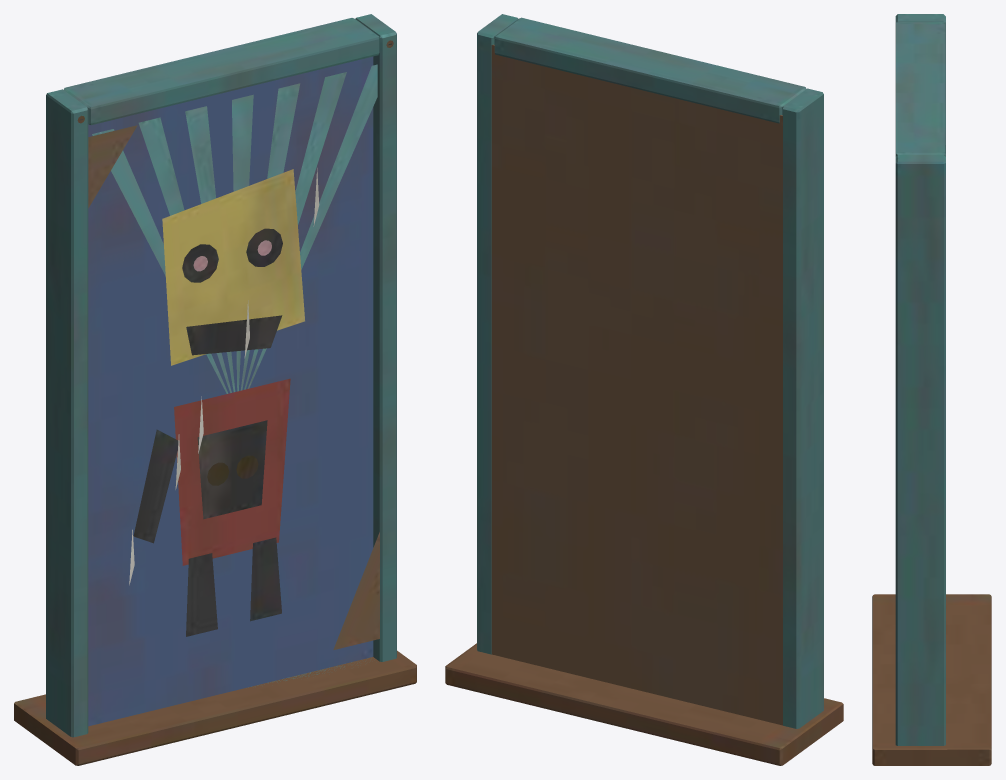
File: Q09_cinema_poster_frame_v3.glb
3 views of the same model, side by side, from view 1: azimuth 30°, elevation 25°; view 2: azimuth 150°, elevation 25°; view 3: azimuth 270°, elevation 25° (orthographic). The views are drawn at different scales.
Visible parts, largest first — view 1: Solid frame backing; view 2: Solid frame backing; view 3: Solid frame backing.
Boxes of the visible parts, box(x1,y1,x2,y2) form: Solid frame backing: box(14, 14, 416, 765); Solid frame backing: box(445, 14, 843, 765); Solid frame backing: box(872, 14, 991, 765).
Size of the model in its own units: 0.555 by 1 by 0.18.
Materials: 12 (12 with a texture image).
